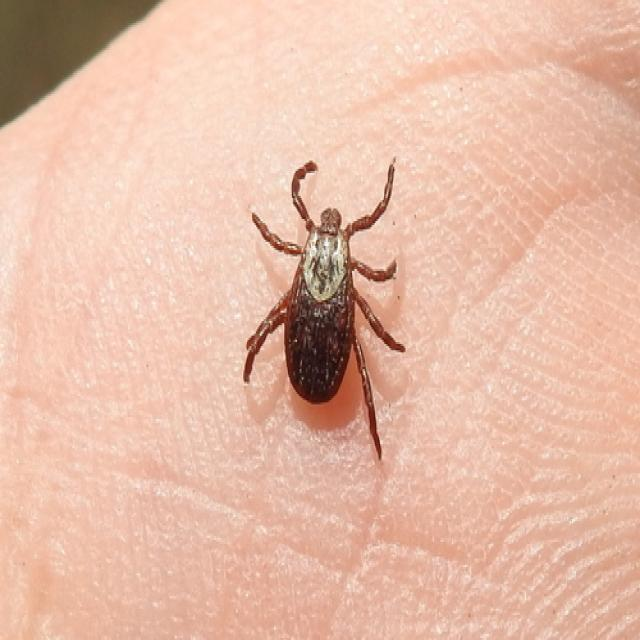Dermacentor Reticulatus-F: (244, 161, 406, 458)
